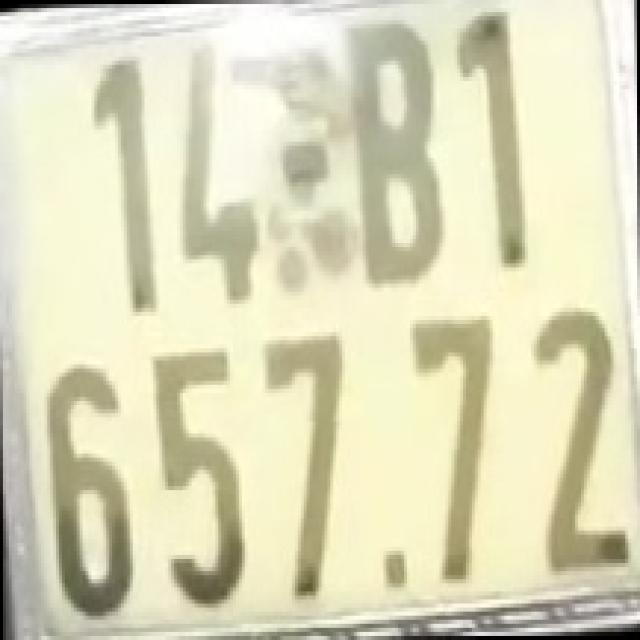1: (454, 4, 543, 271), (84, 51, 164, 318)
2: (525, 302, 634, 573)
4: (172, 36, 267, 312)
5: (149, 338, 252, 606)
6: (43, 358, 137, 618)
7: (405, 306, 500, 585), (261, 326, 350, 598)
B: (339, 14, 451, 290)
